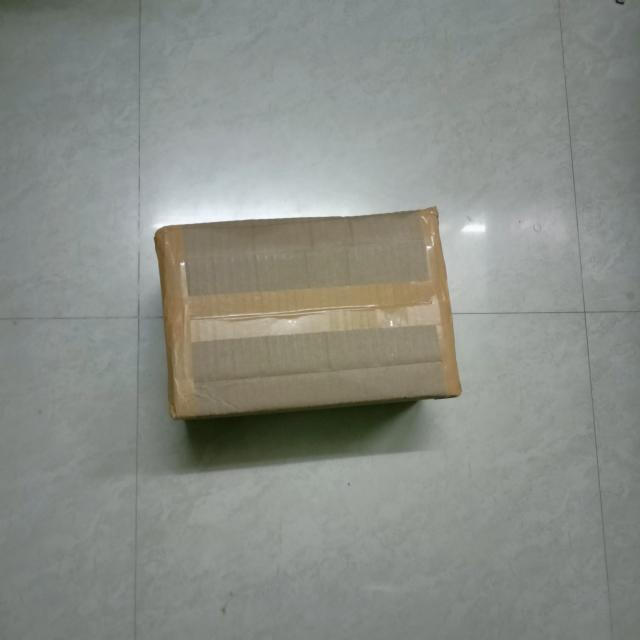box: (156, 200, 463, 417)
